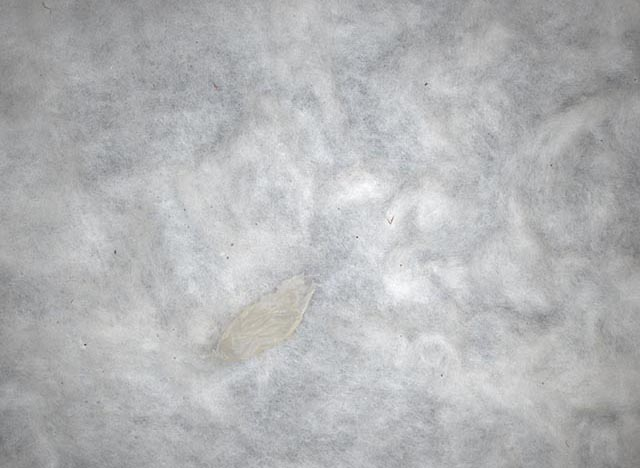plastic film: (209, 271, 312, 361)
